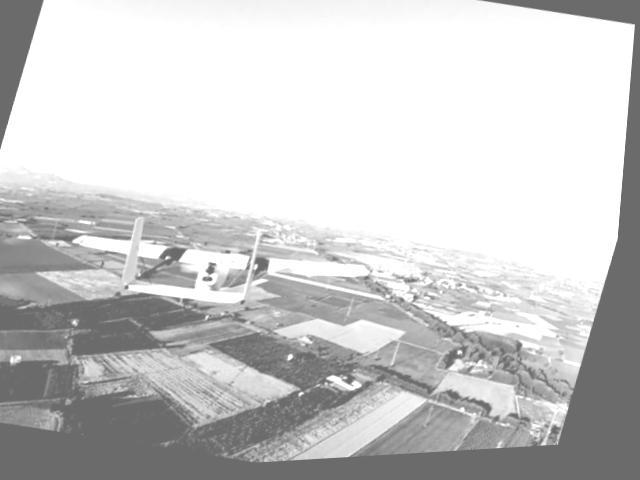hedef: (53, 182, 388, 373)
